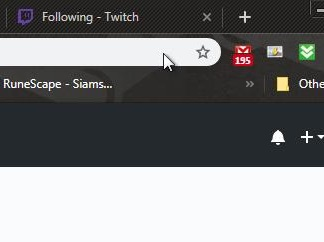cursor: (162, 52, 175, 72)
